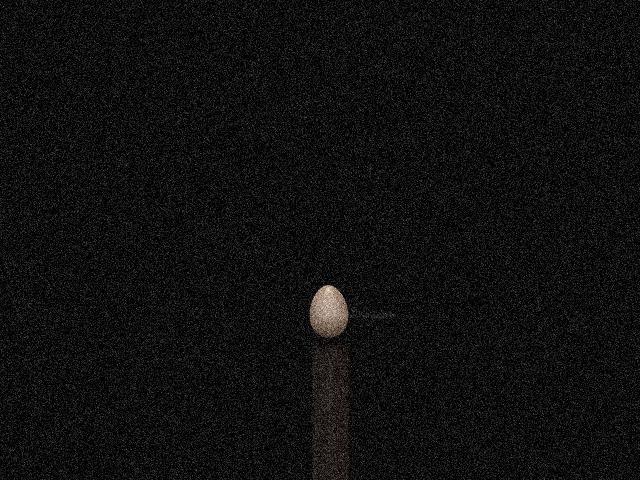egg: (309, 285, 347, 338)
